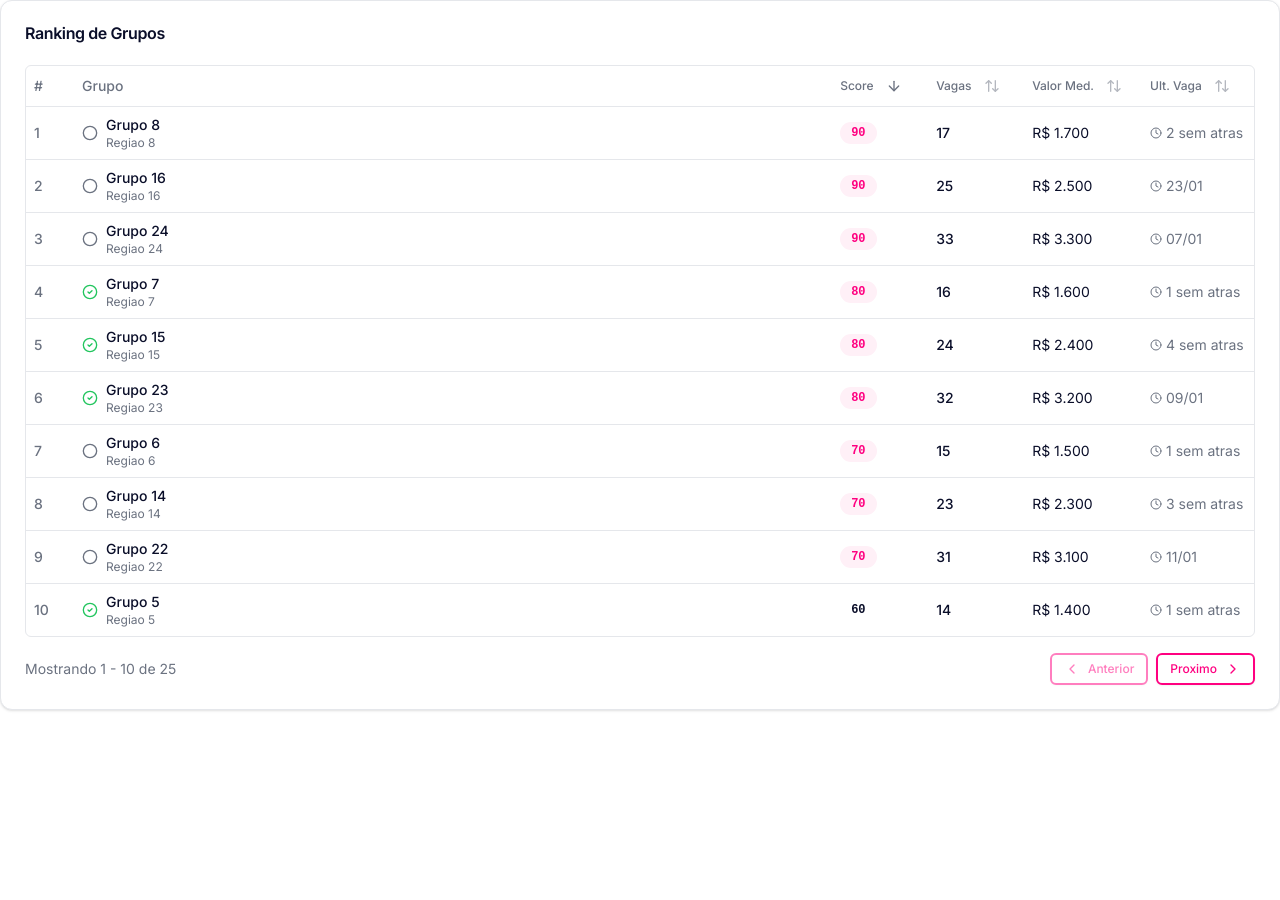
GroupsRanking › Paginacao › deve navegar para proxima pagina
Click the button "Proximo".
click(1206, 668)  # box [1156,652,1255,684]
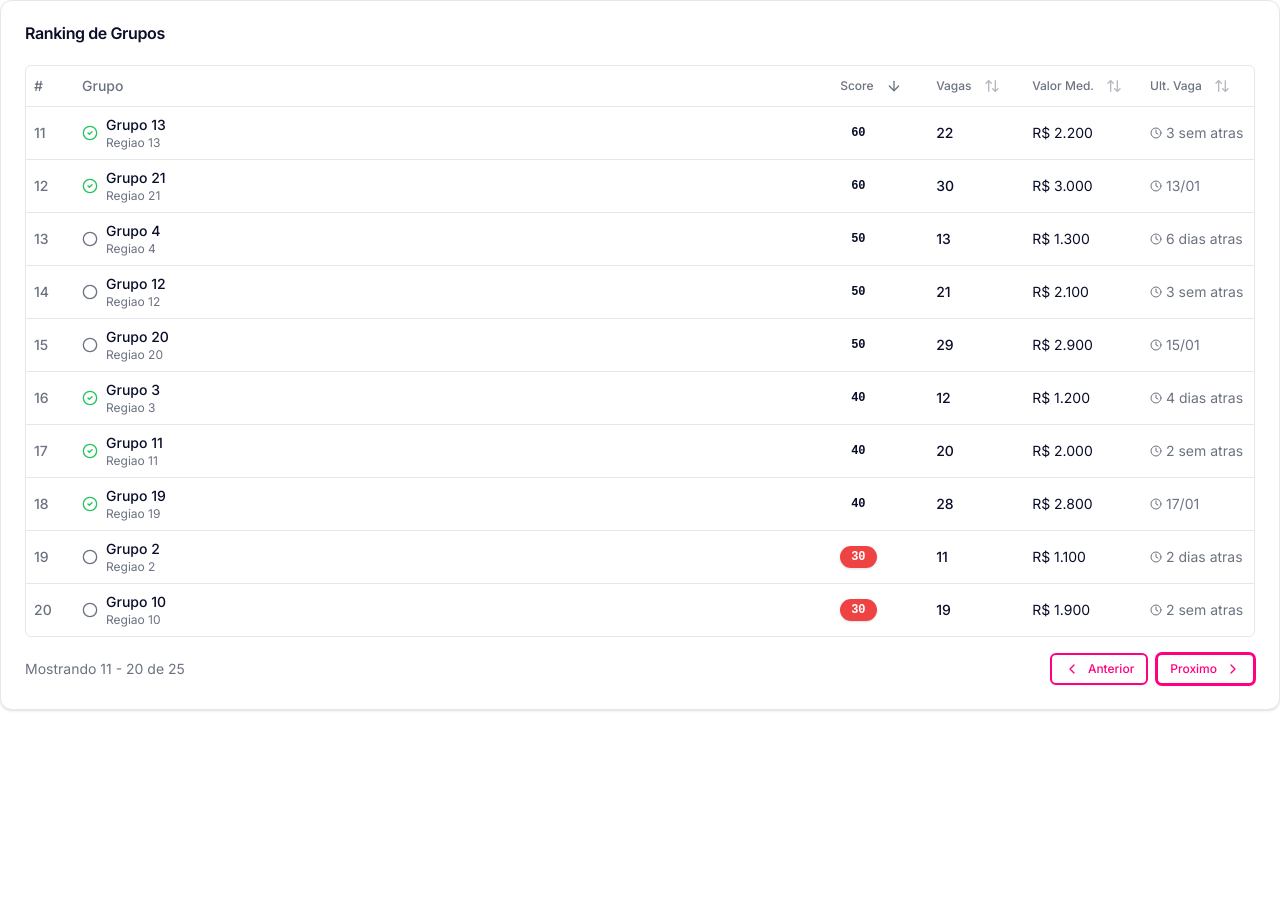
Check: the text "Mostrando 11 - 20 de 25" is shown, box [25,658,185,678]
